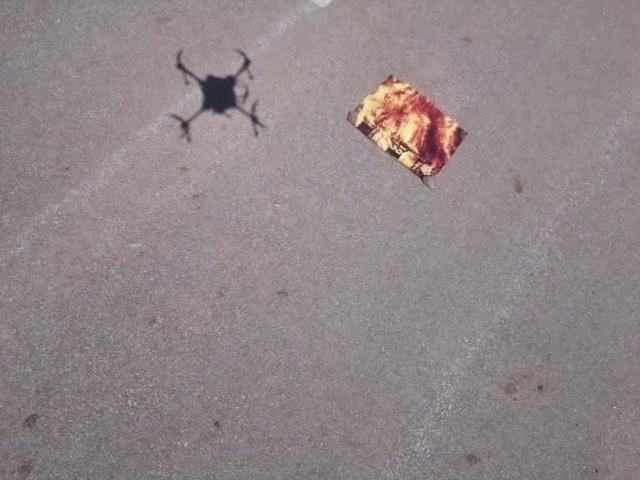fire-poster: (344, 72, 469, 189)
